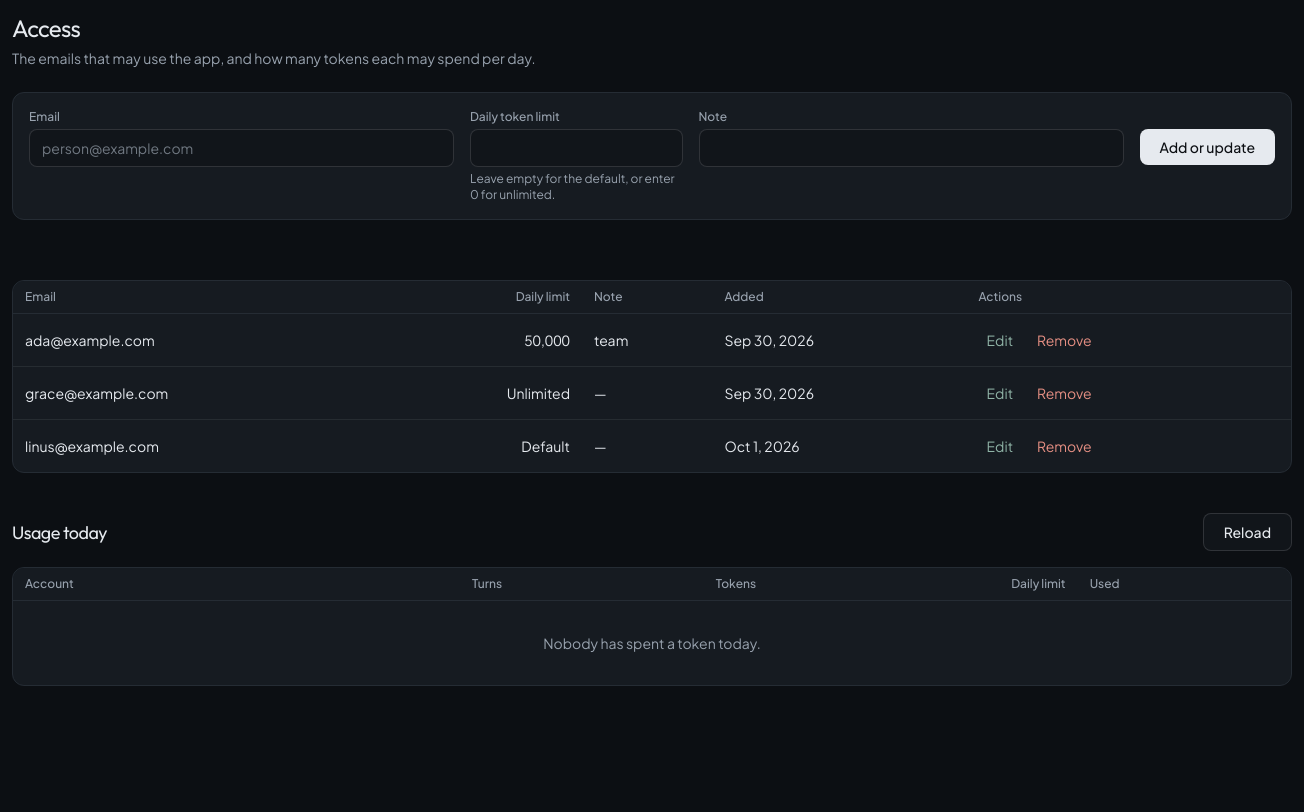
Test: AccessClientPage › says the account is not allowed when a write answers 403
The image size is (1304, 812).
Type "new@example.com" into the field labelled "Email". click: (242, 148)
box: [29,129,454,167]
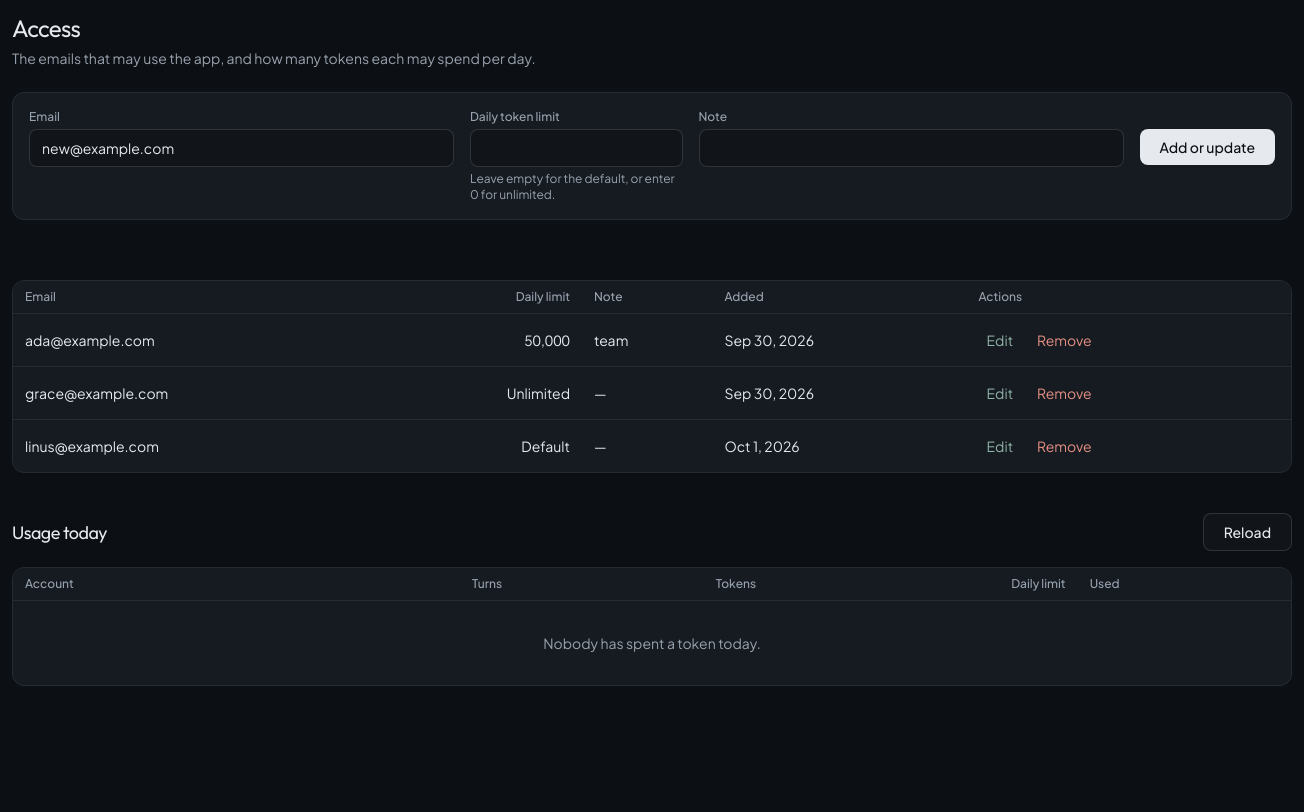
Click the button "Add or update". click: (1207, 147)
box: [1140,129,1275,165]
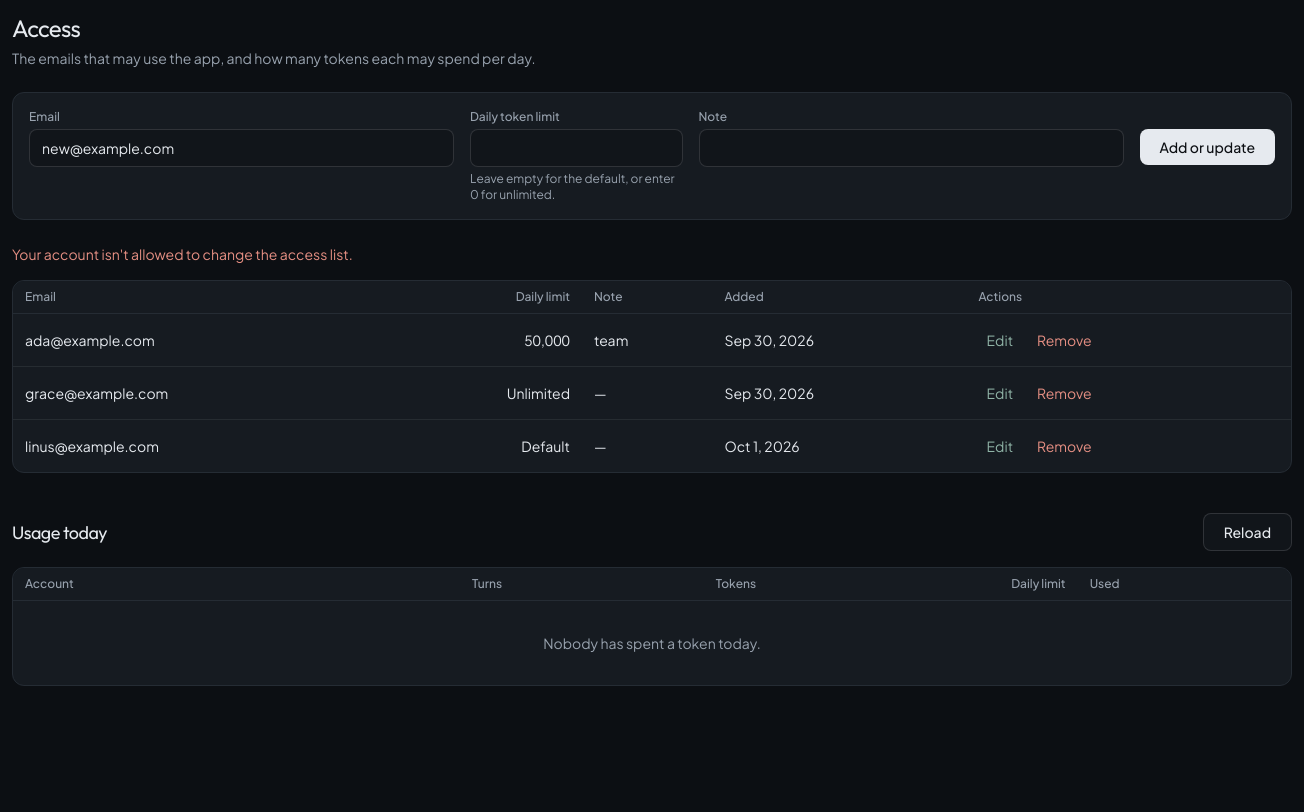
expect the message with test id "access-message" shows "isn't allowed to change the access list": met, box [12,245,353,263]
